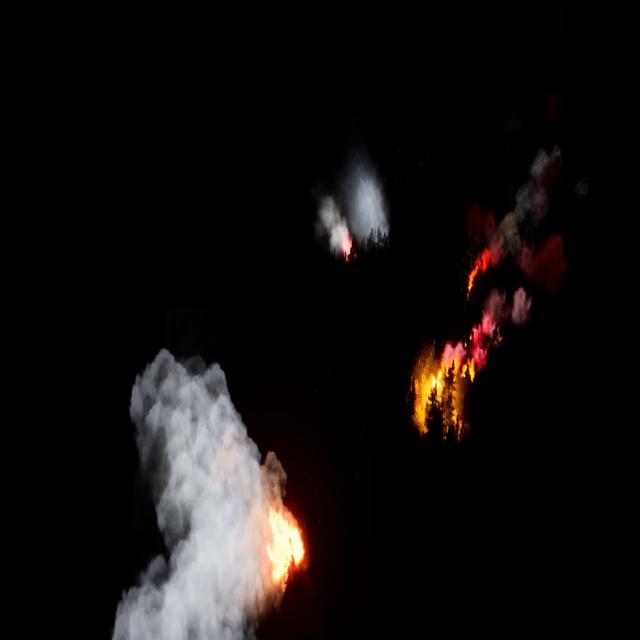fire: (412, 344, 479, 440), (264, 495, 306, 579)
smoke: (110, 349, 297, 639), (469, 142, 564, 371), (319, 164, 392, 252)
